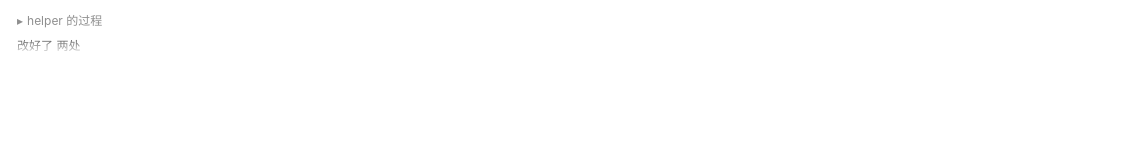
Test case: thinking card › 回顾收起时露出最后一段话的开头，点一下展开
Expected: the text "两处" is shown, [56, 38, 80, 53]
Click the button with aria-label "展开 helper 的过程": [37, 46] box [17, 34, 1127, 56]
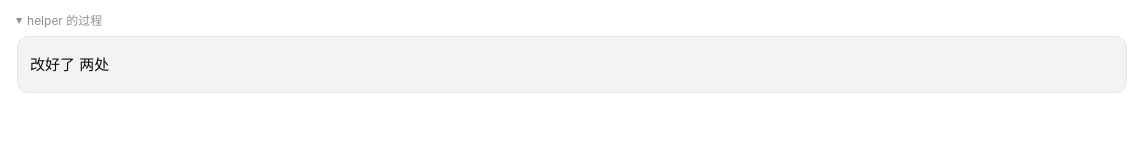
Expected: the button "▸ helper 的过程" is expanded, [17, 10, 108, 32]
